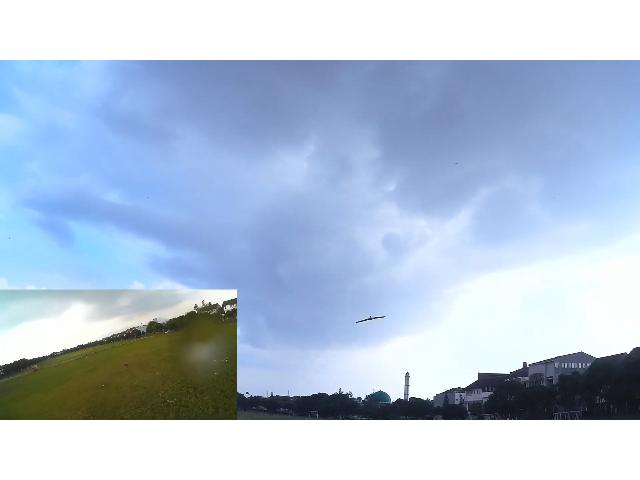Anti-Drone: (356, 316, 386, 323)
